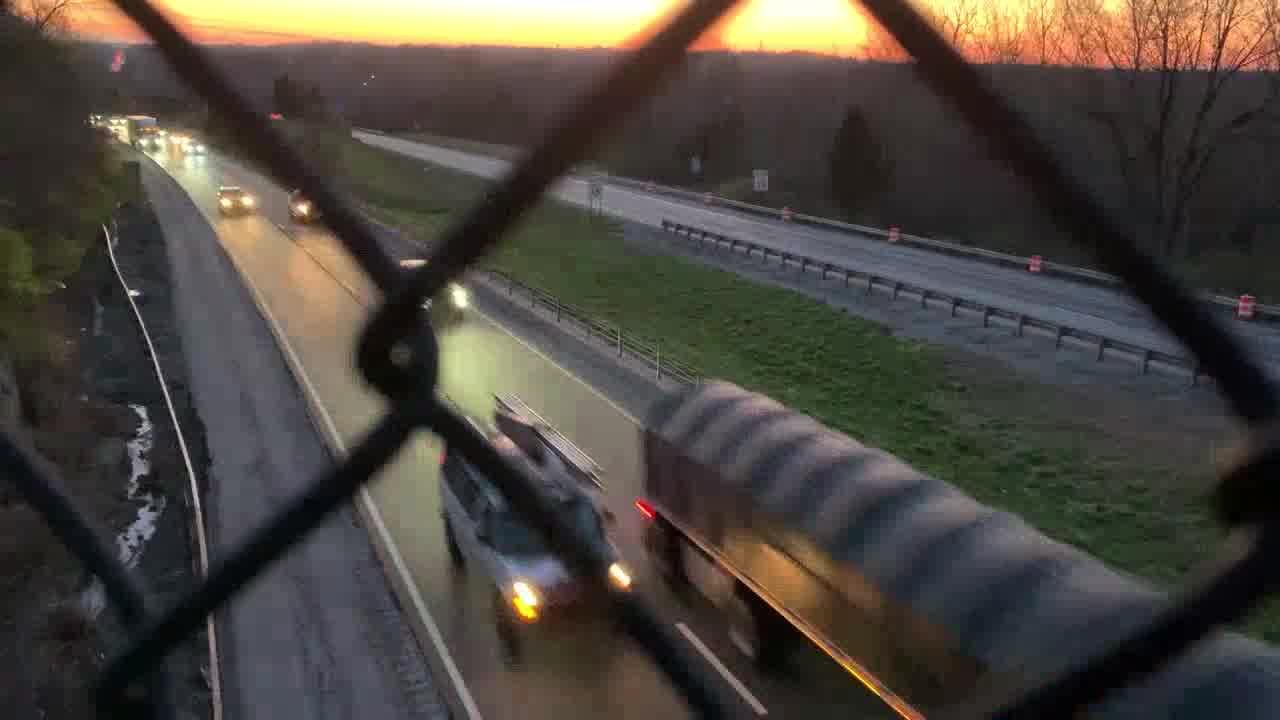heavyTruck: (642, 383, 1280, 720)
largeCar: (434, 390, 639, 633)
